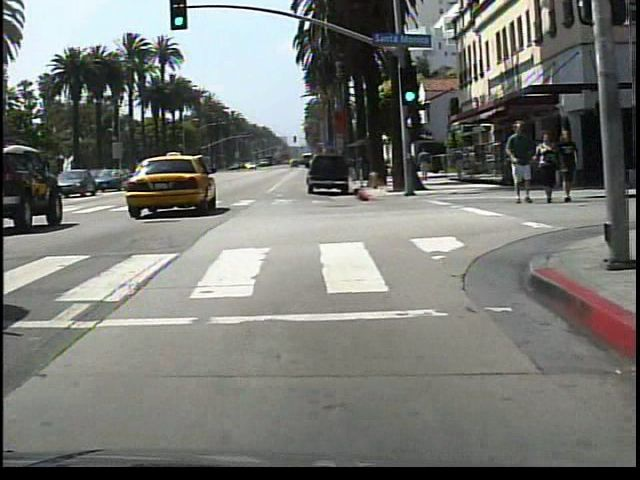person: (503, 120, 536, 209), (536, 131, 562, 208), (557, 130, 581, 208), (414, 146, 436, 187)
